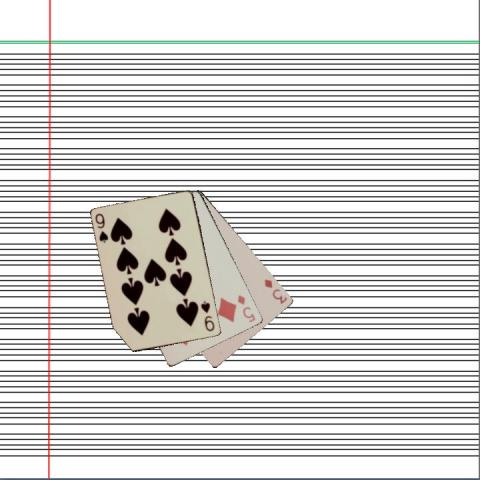3d: (261, 276, 289, 305)
5d: (235, 292, 256, 324)
9s: (198, 298, 216, 333), (92, 210, 110, 244)
